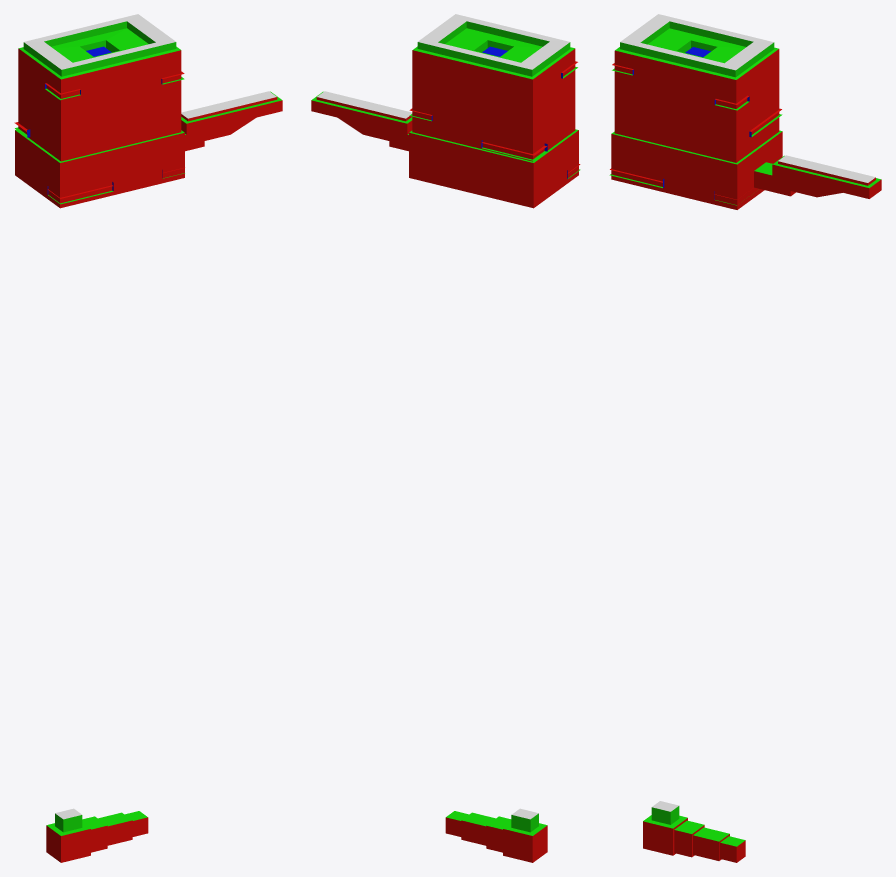
The model's file is TownC 2.fbx.
The picture shows the model from 3 angles, left to right: view 1: azimuth 30°, elevation 25°; view 2: azimuth 150°, elevation 25°; view 3: azimuth 330°, elevation 25°; orthographic projection.
Parts seen in each view (by area): view 1: TownC2Mesh; view 2: TownC2Mesh; view 3: TownC2Mesh.
Boxes of the visible parts, x1=… form: TownC2Mesh: x1=14, y1=14, x2=282, y2=862; TownC2Mesh: x1=311, y1=14, x2=580, y2=862; TownC2Mesh: x1=609, y1=14, x2=881, y2=862.
Size of the model in its own units: 9234 by 29574 by 3086.
